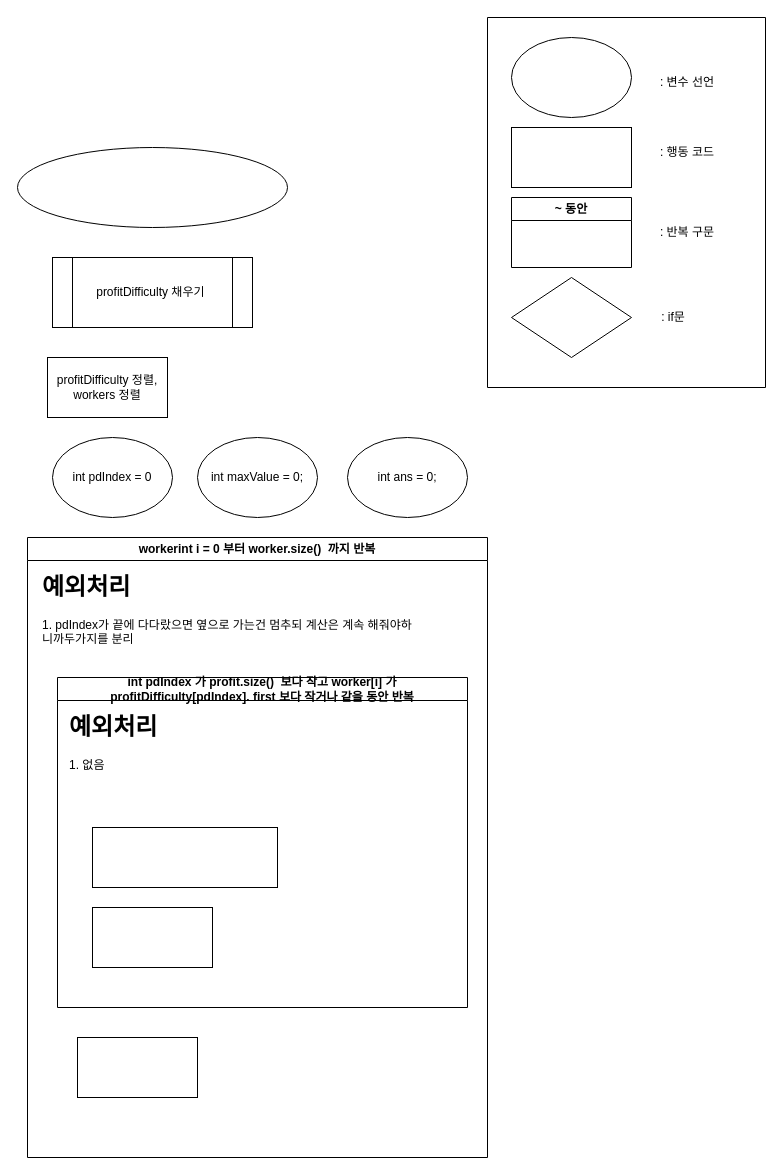
This 783x1175 diagram has some shape labels left out. The centre of each missing label's shape, as x and y in pixels:
ans = += masValue,: (137,1067)
ans = max(maxValue, profitDifficulty[pdIndex].first): (185,857)
pdIndex ++: (152,937)
Vector<pair<int, int>> profitDifficulty = {}: (152,187)
